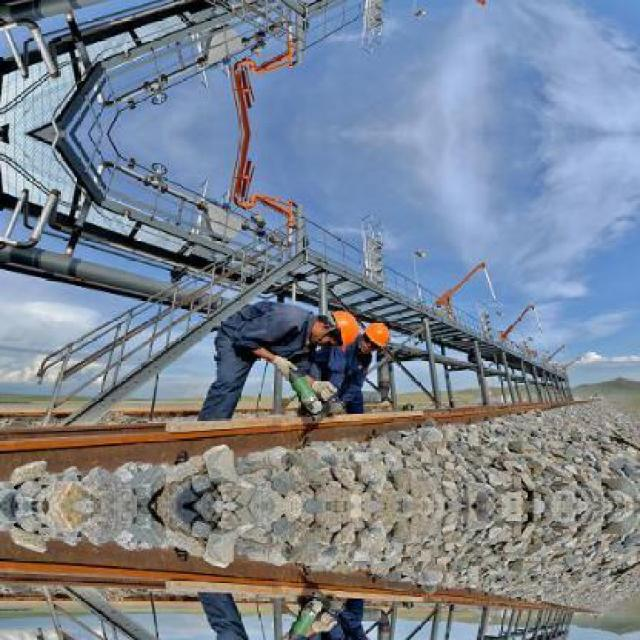helmet: (308, 308, 357, 348), (357, 321, 391, 353)
